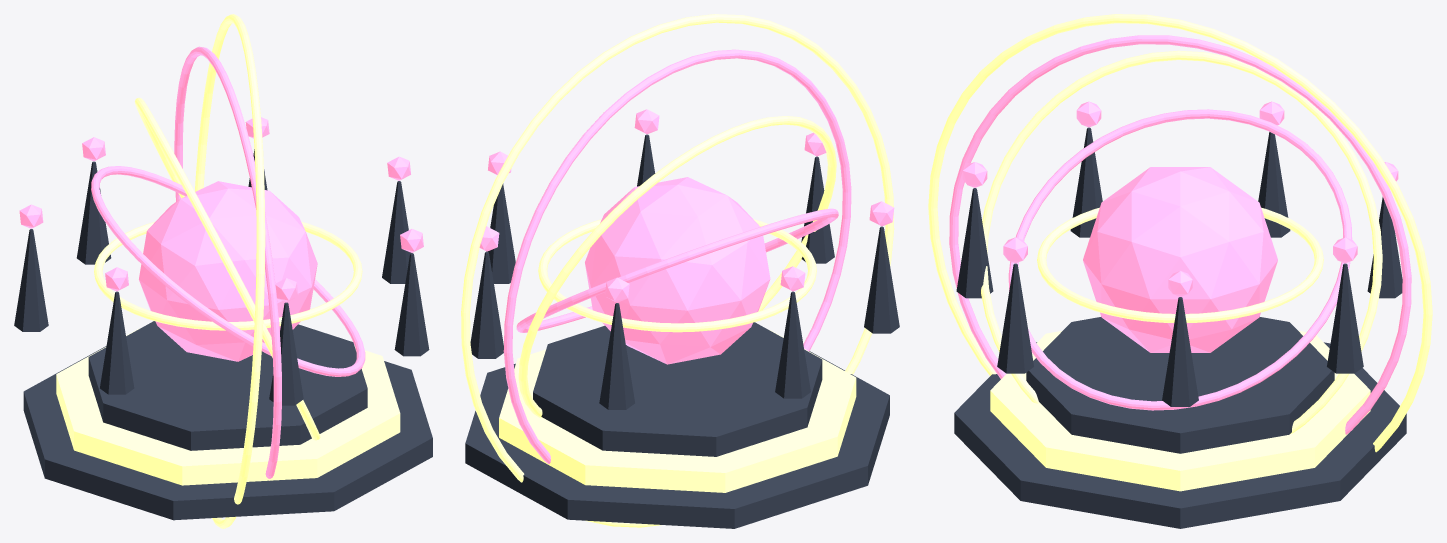
Rendered from gpu-blender-v25.glb.
3 renders of one model, left to right at view 1: azimuth 30°, elevation 25°; view 2: azimuth 150°, elevation 25°; view 3: azimuth 270°, elevation 25°, orthographic. The views are drawn at different scales.
Parts seen in each view (by area): view 1: Cylinder.002, Cylinder, SovereignCore_likeness-desk, Cylinder.001, Torus.004, Torus.003, Torus.001, Torus, Torus.002, Cone.006, Cone.004, Cone.003 (+3 smaller); view 2: Cylinder.002, SovereignCore_likeness-desk, Cylinder, Cylinder.001, Torus.004, Torus.003, Torus.002, Torus.001, Torus, Cone.004, Cone.003, Cone.002 (+4 smaller); view 3: SovereignCore_likeness-desk, Cylinder.002, Cylinder, Cylinder.001, Torus.004, Torus.003, Torus.002, Torus.001, Torus, Cone.001, Cone.006, Cone (+4 smaller).
Boxes of the visible parts, <box> form: Cylinder.002: <box>88,321,367,450</box>; Cylinder: <box>23,346,432,520</box>; SovereignCore_likeness-desk: <box>139,181,317,361</box>; Cylinder.001: <box>56,328,400,485</box>; Torus.004: <box>195,14,265,528</box>; Torus.003: <box>174,46,281,480</box>; Torus.001: <box>91,166,365,376</box>; Torus: <box>94,222,362,330</box>; Torus.002: <box>135,97,320,440</box>; Cone.006: <box>394,253,429,356</box>; Cone.004: <box>100,291,134,394</box>; Cone.003: <box>14,229,48,331</box>; Cylinder.002: <box>533,322,822,456</box>; SovereignCore_likeness-desk: <box>585,177,770,364</box>; Cylinder: <box>465,351,889,528</box>; Cylinder.001: <box>499,330,856,492</box>; Torus.004: <box>461,14,894,527</box>; Torus.003: <box>503,49,851,463</box>; Torus.002: <box>518,116,836,417</box>; Torus.001: <box>516,208,838,332</box>; Torus: <box>538,219,816,332</box>; Cone.004: <box>864,226,899,333</box>; Cone.003: <box>775,291,810,398</box>; Cone.002: <box>599,303,634,409</box>; SovereignCore_likeness-desk: <box>1083,167,1277,352</box>; Cylinder.002: <box>1026,317,1334,453</box>; Cylinder: <box>954,342,1406,528</box>; Cylinder.001: <box>990,330,1370,491</box>; Torus.004: <box>928,14,1432,452</box>; Torus.003: <box>949,35,1411,434</box>; Torus.002: <box>981,50,1382,433</box>; Torus.001: <box>1008,109,1352,410</box>; Torus: <box>1037,207,1323,322</box>; Cone.001: <box>1327,263,1363,373</box>; Cone.006: <box>997,263,1033,373</box>; Cone: <box>1162,297,1198,406</box>.
Bounding box in the file's own units: 4.41 × 5.33 × 4.9.
